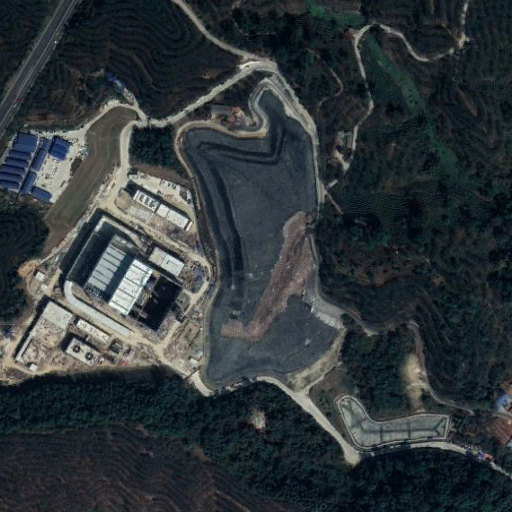lf: (178, 79, 339, 392)
